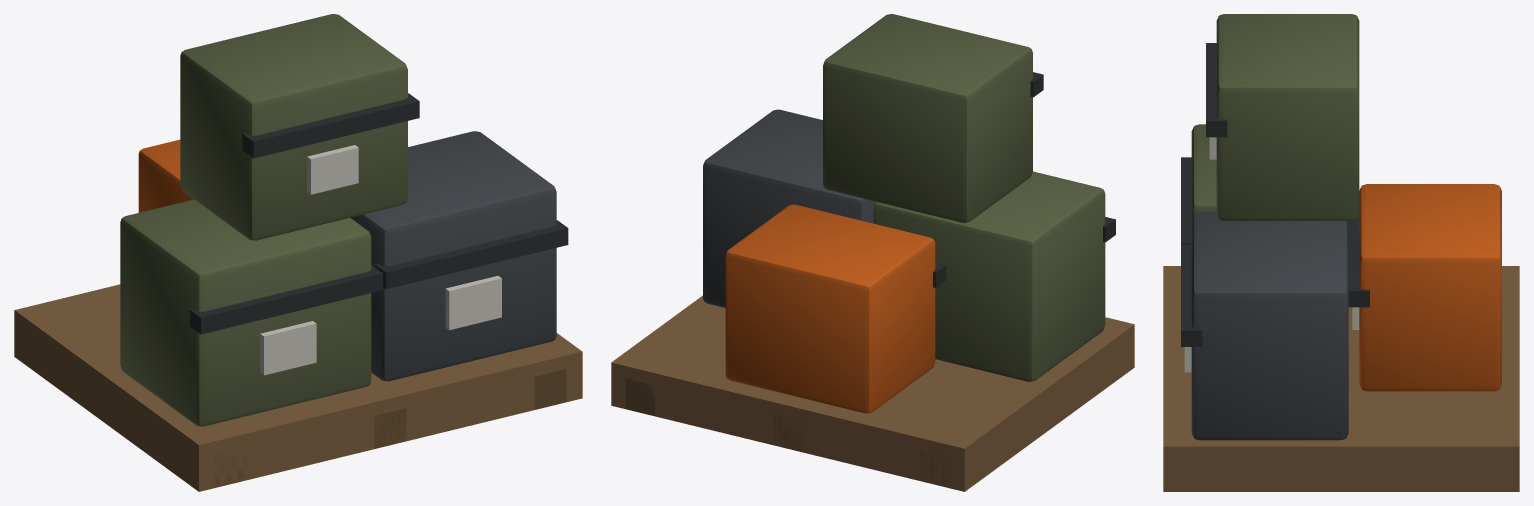
Rendered from crate-stack.glb.
3 renders of one model, left to right at view 1: azimuth 30°, elevation 25°; view 2: azimuth 150°, elevation 25°; view 3: azimuth 270°, elevation 25°, orthographic. The views are drawn at different scales.
Parts seen in each view (by area): view 1: Piece_lod0; view 2: Piece_lod0; view 3: Piece_lod0.
Boxes of the visible parts, x1,y1,x2,y2 form: Piece_lod0: (14,14,582,491); Piece_lod0: (611,14,1134,491); Piece_lod0: (1163,14,1519,491).
Size of what is drawn, in the model's own units: 1.2 by 1.04 by 1.
